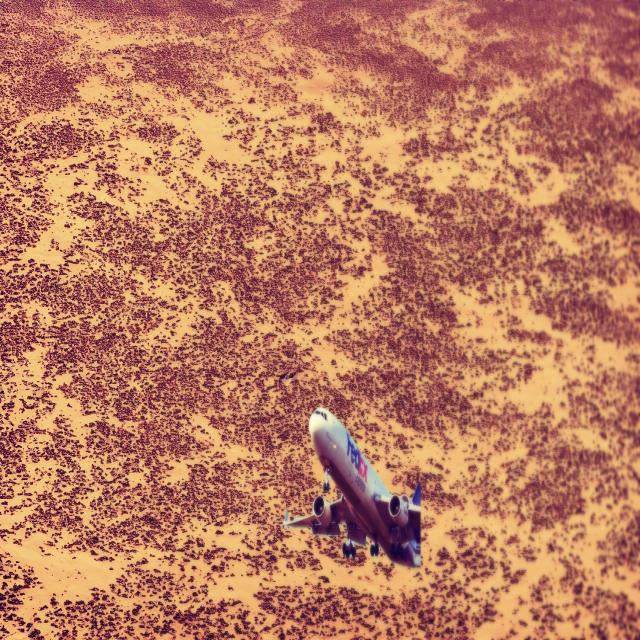airplane: (282, 405, 422, 568)
